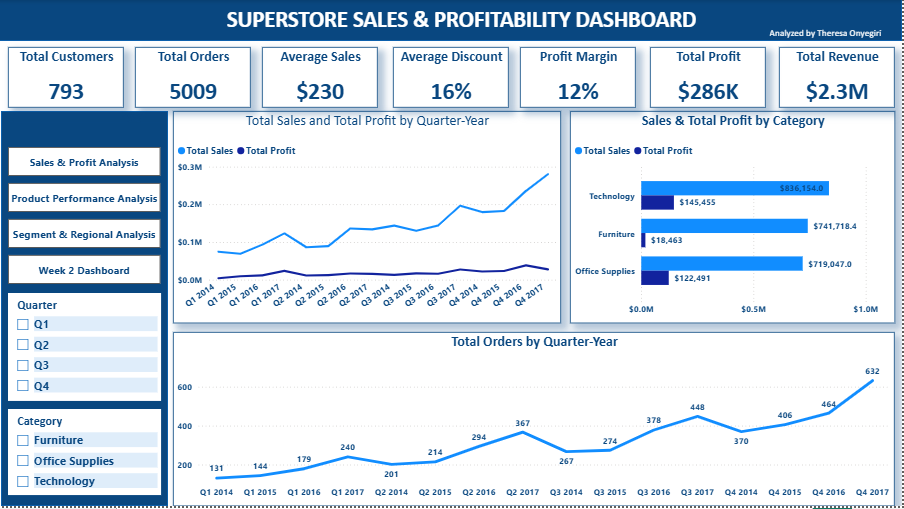

Layout of this report page (visuals, bound fields, positions):
{"tool":"powerbi","page":{"name":"Sales & Profit Analysis","canvas":[1280,720],"ordinal":0},"visuals":[{"type":"shape","box":[2.8,160.1,236.7,559.9],"z":0},{"type":"shape","box":[0,0,1280,61],"z":1000},{"type":"textbox","box":[224,5.7,863.3,49.6],"z":2000},{"type":"lineChart","fields":{"Category":["DateTable.Quarter-Year"],"Y":["Sample - Superstore.Total Sales","Sample - Superstore.Total Profit"]},"box":[246.6,160.2,550,300.5],"z":3000},{"type":"clusteredBarChart","title":"Sales & Total Profit by Category","fields":{"Category":["Sample - Superstore.Category"],"Y":["Sample - Superstore.Total Sales","Sample - Superstore.Total Profit"]},"box":[809.4,160.2,460.7,300.5],"z":4000},{"type":"lineChart","fields":{"Category":["DateTable.Quarter-Year"],"Y":["Sample - Superstore.Total Orders"]},"box":[246.6,473.4,1023.4,246.6],"z":5000},{"type":"pageNavigator","box":[12.8,211.2,216.9,197],"z":6000},{"type":"card","title":"Total Customers","fields":{"Values":["Sample - Superstore.Total customer"]},"box":[12.8,69.5,164.4,86.5],"z":7000},{"type":"card","title":"Average Discount","fields":{"Values":["Sample - Superstore.Average Discount"]},"box":[558.5,69.5,164.4,86.5],"z":8000},{"type":"card","title":"Average Sales","fields":{"Values":["Sample - Superstore.Average Sales"]},"box":[372.8,69.5,164.4,86.5],"z":9000},{"type":"card","title":"Total Orders","fields":{"Values":["Sample - Superstore.Total Orders"]},"box":[192.8,69.5,164.4,86.5],"z":10000},{"type":"card","title":"Total Revenue","fields":{"Values":["Sample - Superstore.Total Sales"]},"box":[1105.6,69.5,164.4,86.5],"z":11000},{"type":"card","title":"Total Profit","fields":{"Values":["Sample - Superstore.Total Profit"]},"box":[922.8,69.5,164.4,86.5],"z":12000},{"type":"card","title":"Profit Margin","fields":{"Values":["Sample - Superstore.Profit Margin"]},"box":[738.5,69.5,164.4,86.5],"z":13000},{"type":"textbox","box":[1087.2,35.4,180,31.2],"z":14000},{"type":"slicer","fields":{"Values":["DateTable.Quarter"]},"box":[12.8,418.2,216.9,153.1],"z":15000},{"type":"slicer","fields":{"Values":["Sample - Superstore.Category"]},"box":[12.8,582.6,216.9,121.9],"z":16000}]}

Visuals, with their boxes in screenshot pixels (x1, y1, x2, y2), scaled from the page's 1280x720 canvas onto the 904x509 screenshot:
shape: 2,113,169,508
shape: 0,0,903,43
textbox: 158,4,768,39
lineChart - DateTable.Quarter-Year x Sample - Superstore.Total Sales: 174,113,563,326
"Sales & Total Profit by Category" clusteredBarChart: 572,113,897,326
lineChart - DateTable.Quarter-Year x Sample - Superstore.Total Orders: 174,335,897,508
pageNavigator: 9,149,162,289
"Total Customers" card: 9,49,125,110
"Average Discount" card: 394,49,511,110
"Average Sales" card: 263,49,379,110
"Total Orders" card: 136,49,252,110
"Total Revenue" card: 781,49,897,110
"Total Profit" card: 652,49,768,110
"Profit Margin" card: 522,49,638,110
textbox: 768,25,895,47
slicer - DateTable.Quarter: 9,296,162,404
slicer - Sample - Superstore.Category: 9,412,162,498
